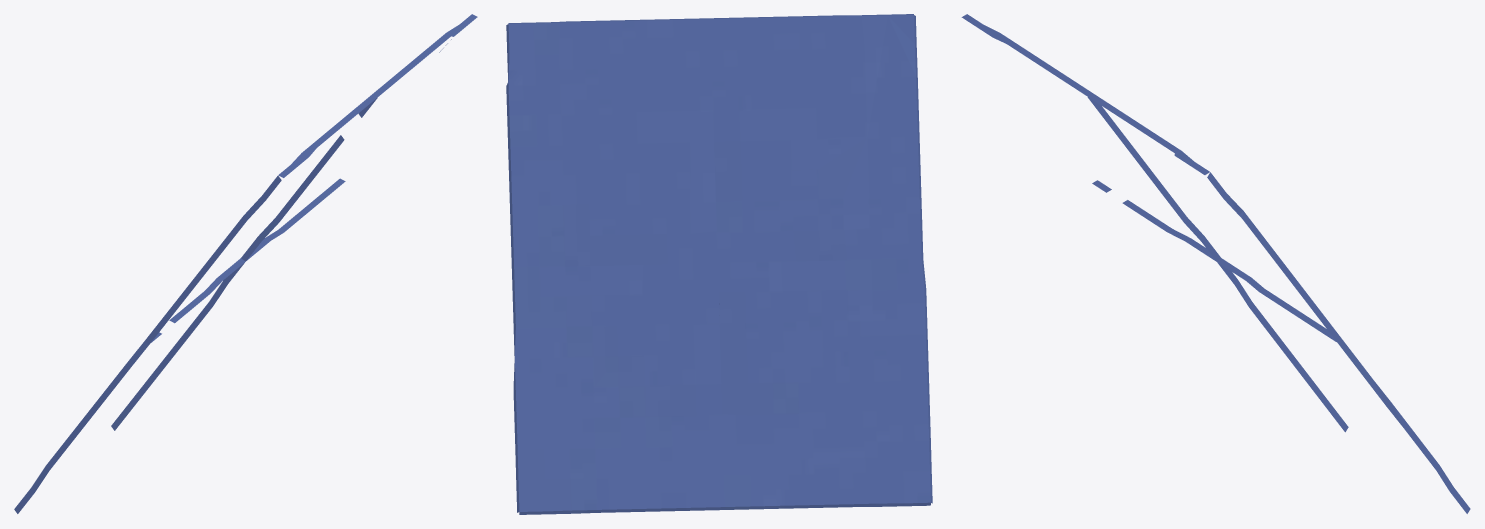
3 views of the same model, side by side, from view 1: azimuth 30°, elevation 25°; view 2: azimuth 150°, elevation 25°; view 3: azimuth 270°, elevation 25° (orthographic). The views are drawn at different scales.
Bounding box in the file's own units: 158189 × 131264 × 146906.
Materials: 1 (1 with a texture image).
